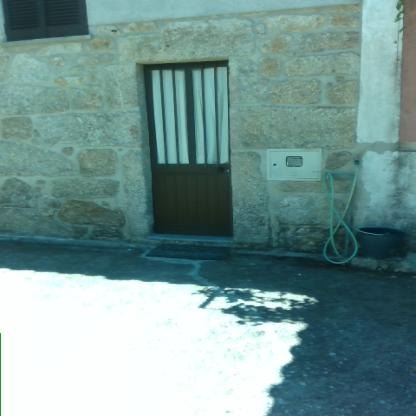closed: (126, 58, 248, 246)
